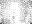person: (14, 19, 18, 23)
